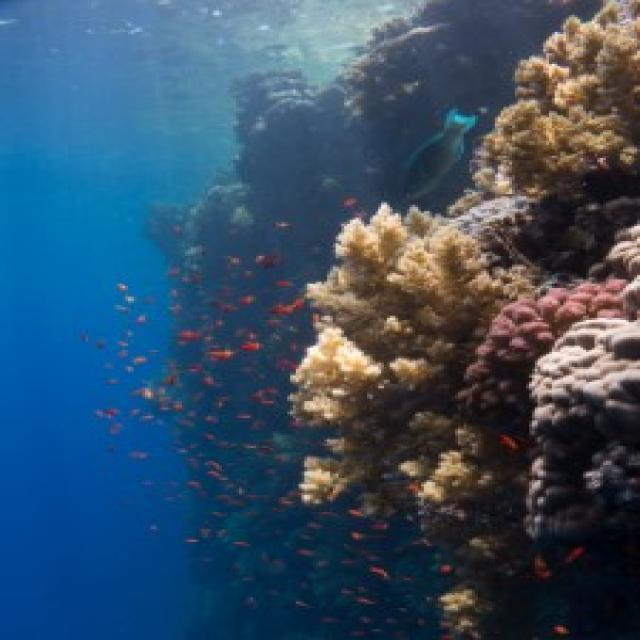Bleached: (522, 317, 640, 541), (453, 194, 549, 264), (598, 225, 640, 270)
Healthy: (286, 210, 640, 640), (470, 1, 640, 191)
